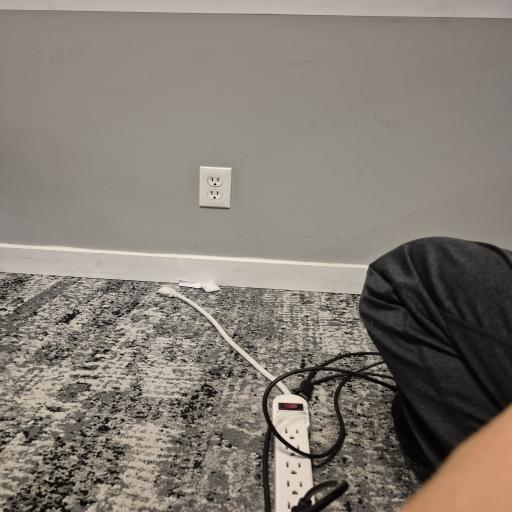outlet: (194, 167, 236, 207)
